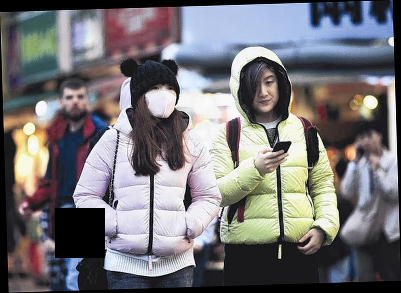with_mask: (144, 83, 177, 118)
without_mask: (251, 72, 279, 113), (63, 90, 87, 119)
